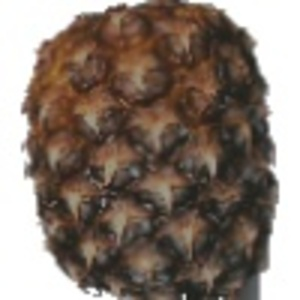abacaxi: (14, 3, 281, 294)
